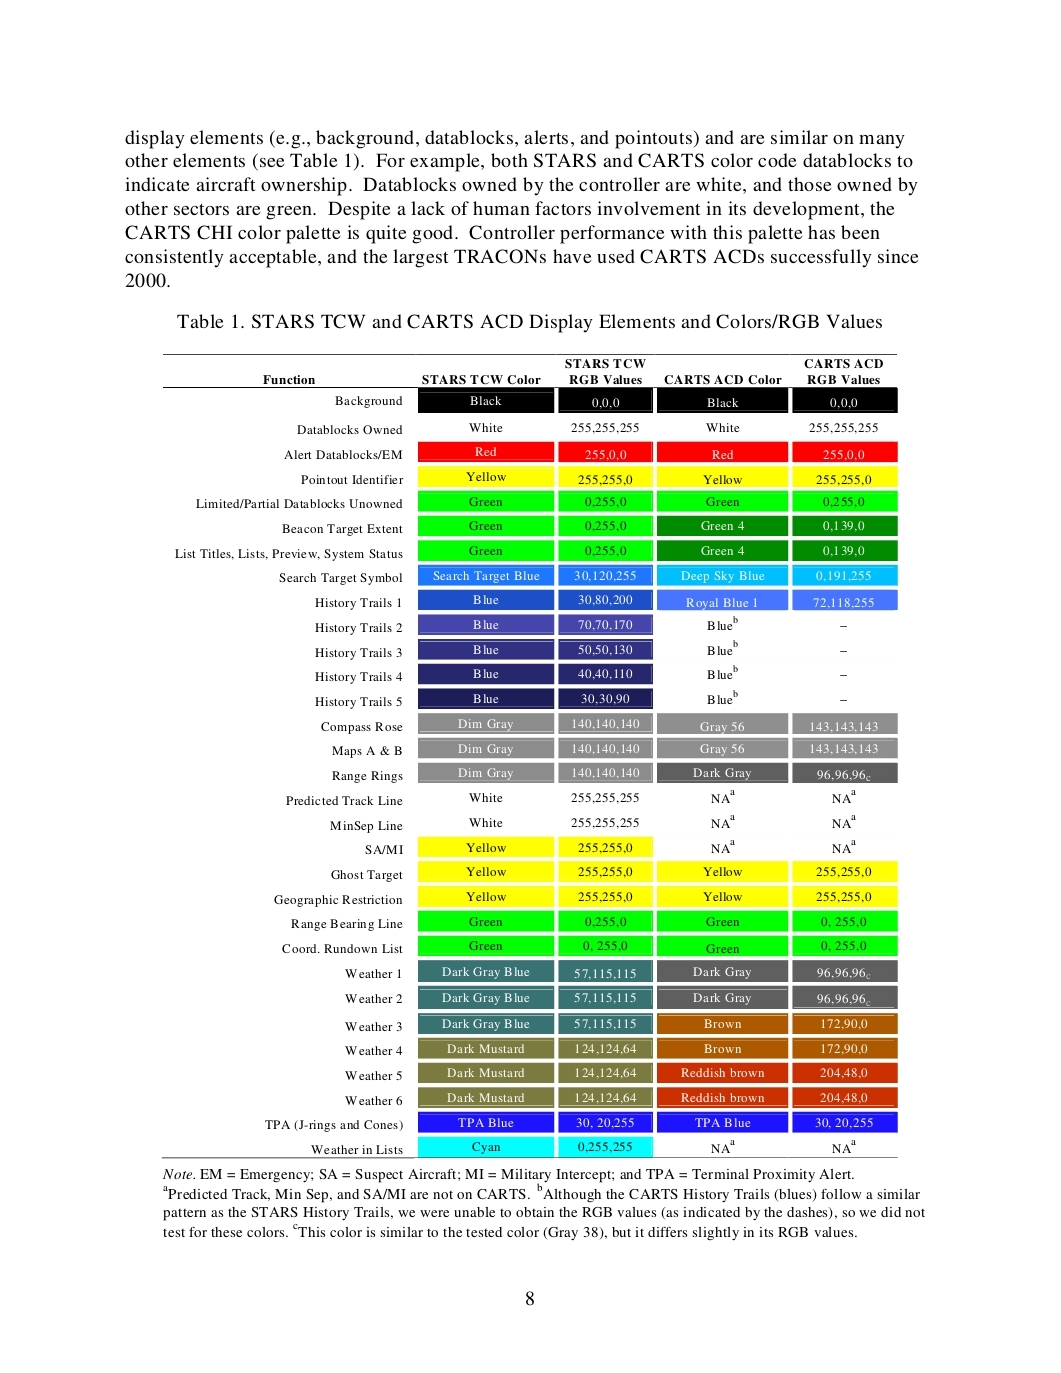Table: (160, 354, 898, 1158)
